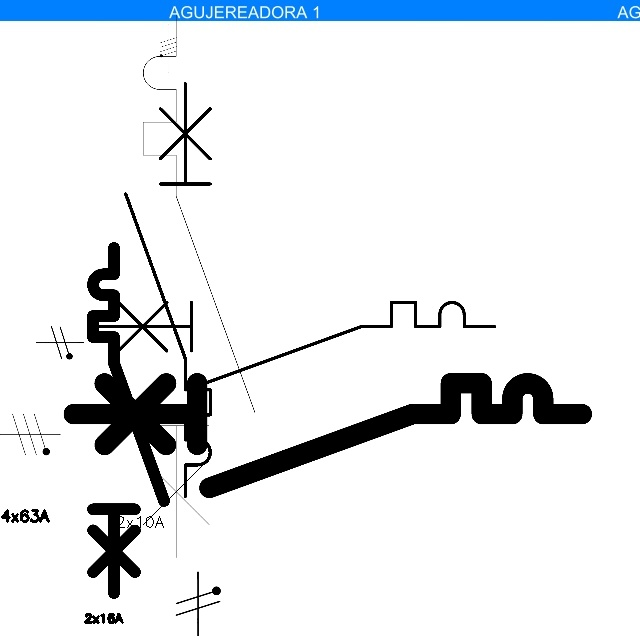interruptor_termomagnetico: (129, 1, 268, 571), (60, 370, 594, 500), (115, 73, 221, 507), (83, 292, 504, 395), (84, 239, 173, 602)
